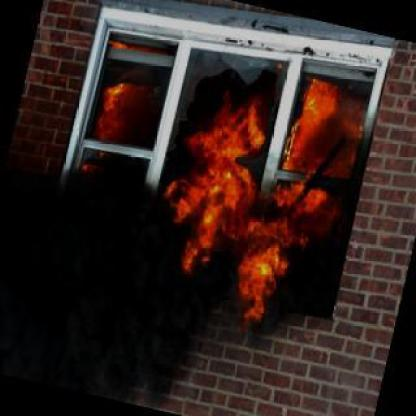Fire: (160, 75, 368, 329), (97, 80, 131, 133)
